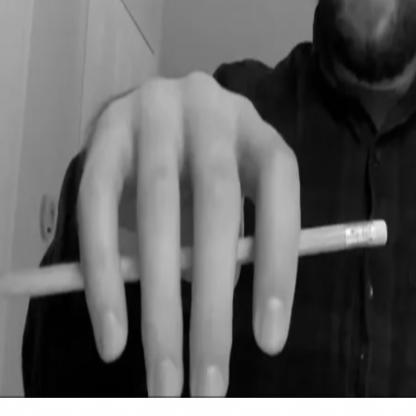good: (70, 61, 305, 400)
